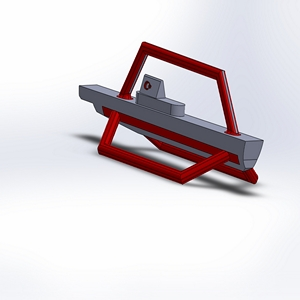submarine: (63, 21, 280, 206)
